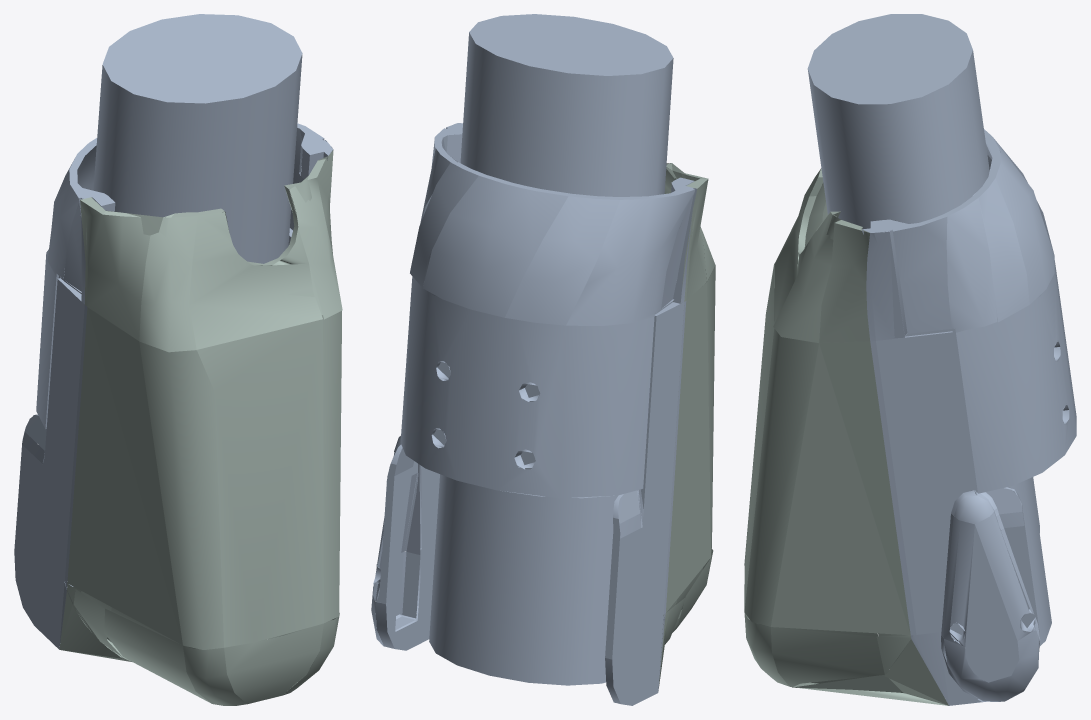
File: icub_r_arm.dae
The picture shows the model from 3 angles, left to right: view 1: azimuth 30°, elevation 25°; view 2: azimuth 150°, elevation 25°; view 3: azimuth 270°, elevation 25°; orthographic projection. The views are drawn at different scales.
Visible parts, largest first — view 1: l_upperarm_mesh, l_arm_cyl_mesh; view 2: l_upperarm_mesh, l_arm_cyl_mesh; view 3: l_upperarm_mesh, l_arm_cyl_mesh.
Boxes of the visible parts, x1=… form: l_upperarm_mesh: x1=14, y1=123, x2=342, y2=705; l_arm_cyl_mesh: x1=93, y1=14, x2=302, y2=263; l_upperarm_mesh: x1=371, y1=123, x2=715, y2=705; l_arm_cyl_mesh: x1=429, y1=14, x2=673, y2=685; l_upperarm_mesh: x1=744, y1=129, x2=1076, y2=705; l_arm_cyl_mesh: x1=807, y1=14, x2=1051, y2=646.
Bounding box in the file's own units: 0.0716 × 0.0812 × 0.1656.
